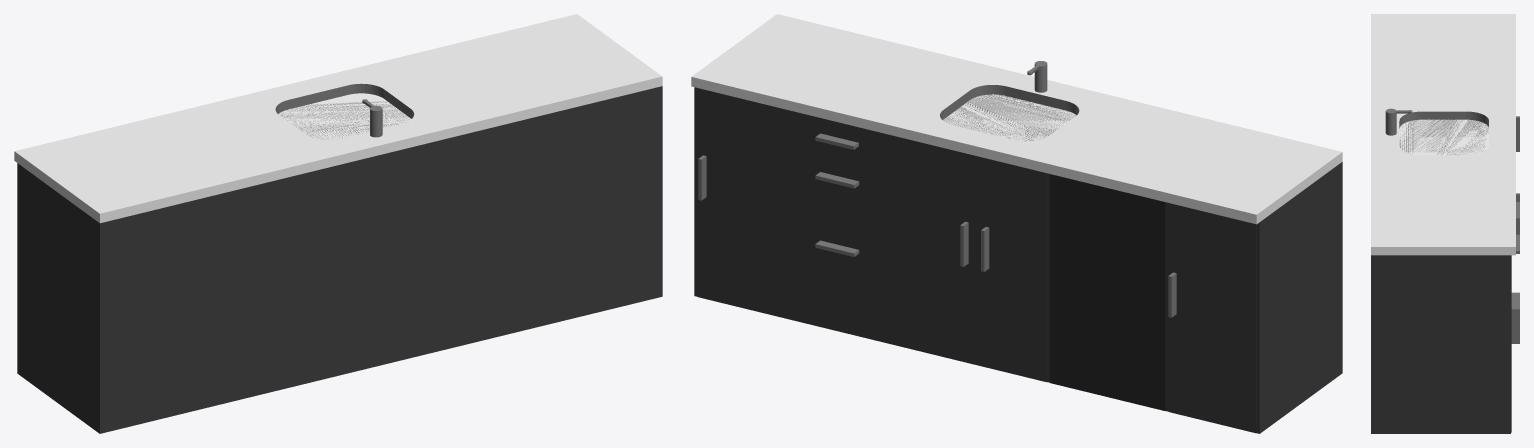
File: kitchen_counter.min.dae
3 renders of one model, left to right at view 1: azimuth 30°, elevation 25°; view 2: azimuth 150°, elevation 25°; view 3: azimuth 270°, elevation 25°, orthographic. The views are drawn at different scales.
Visible parts, largest first — view 1: SketchUp (×4); view 2: SketchUp (×5); view 3: SketchUp (×6).
Boxes of the visible parts, <box> form: SketchUp (×4): <box>14,14,662,433</box>; SketchUp (×5): <box>691,14,1342,433</box>; SketchUp (×6): <box>1371,14,1519,433</box>.
Size of the model in its own units: 96.85 by 26.16 by 40.55.
5 materials, 4 textured.
